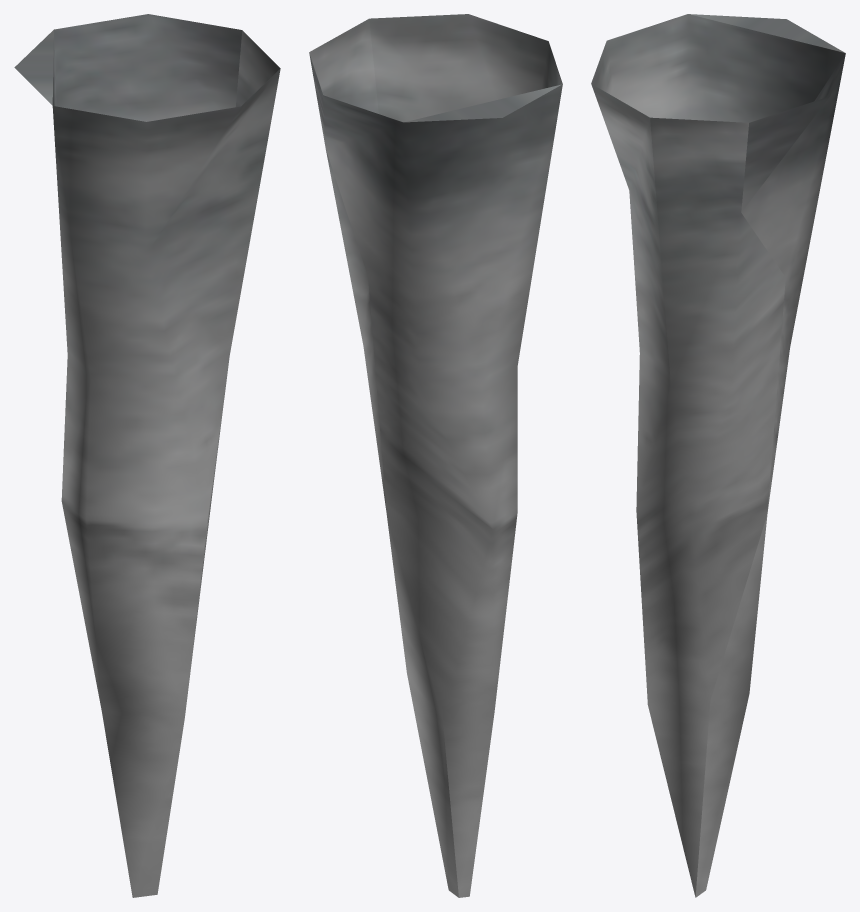
The model's file is snow_d_a05a.fbx.
The picture shows the model from 3 angles, left to right: view 1: azimuth 30°, elevation 25°; view 2: azimuth 150°, elevation 25°; view 3: azimuth 270°, elevation 25°; orthographic projection.
Visible parts, largest first — view 1: d_a05a; view 2: d_a05a; view 3: d_a05a.
Part boxes in pixels (bbox=[...]): d_a05a: bbox=[14, 14, 280, 897]; d_a05a: bbox=[309, 14, 562, 897]; d_a05a: bbox=[591, 14, 845, 897].
Size of the model in its own units: 33.07 by 118 by 32.72.
